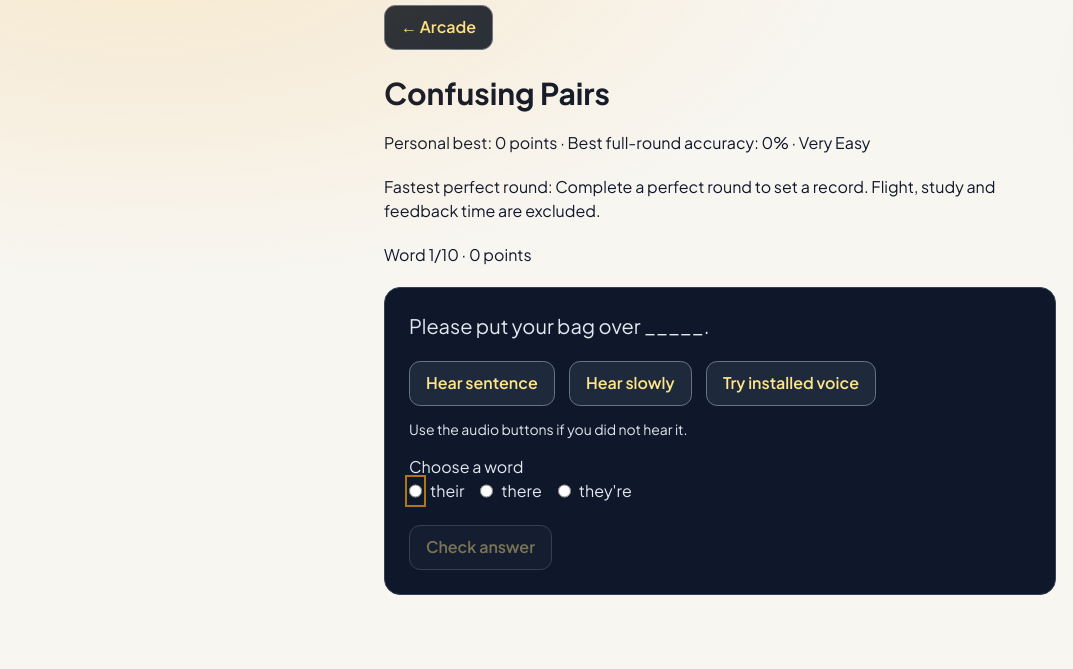
Test: choosing a word pair does not count as spelling mastery
The width and height of the screenshot is (1073, 669).
Click the radio button labelled "there".
click(487, 491)  # box x1=480 y1=479 x2=493 y2=503
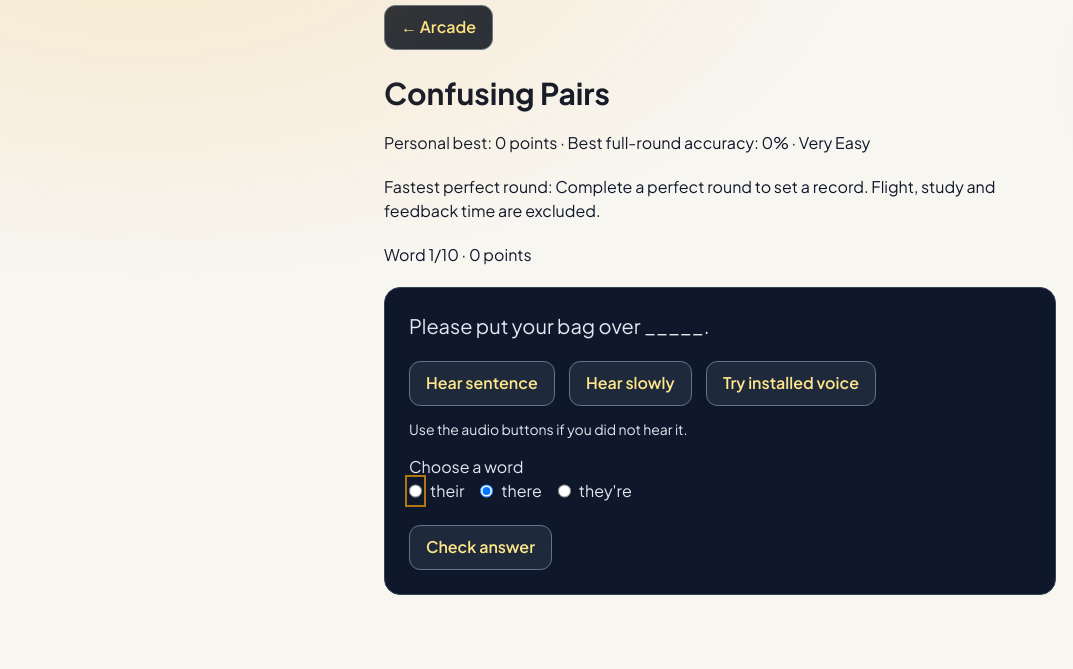
Submit the form, box x1=384 y1=287 x2=1056 y2=595
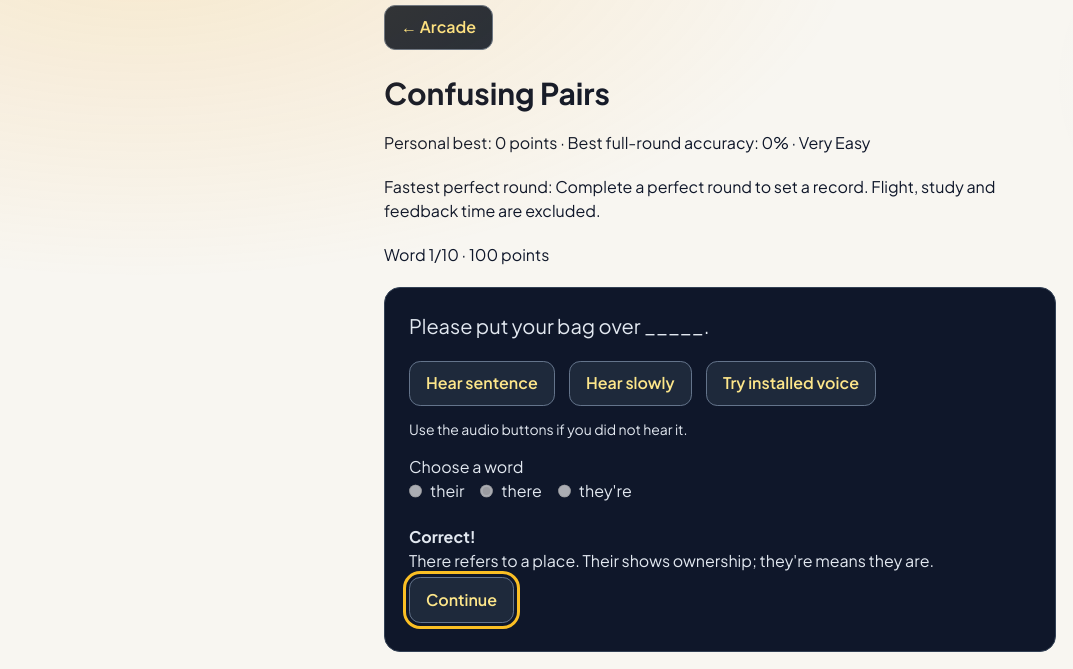
Result: the text "Correct!" is shown at x1=409 y1=526 x2=476 y2=547
Click the button "Continue".
click(462, 600)  # box x1=409 y1=577 x2=514 y2=623
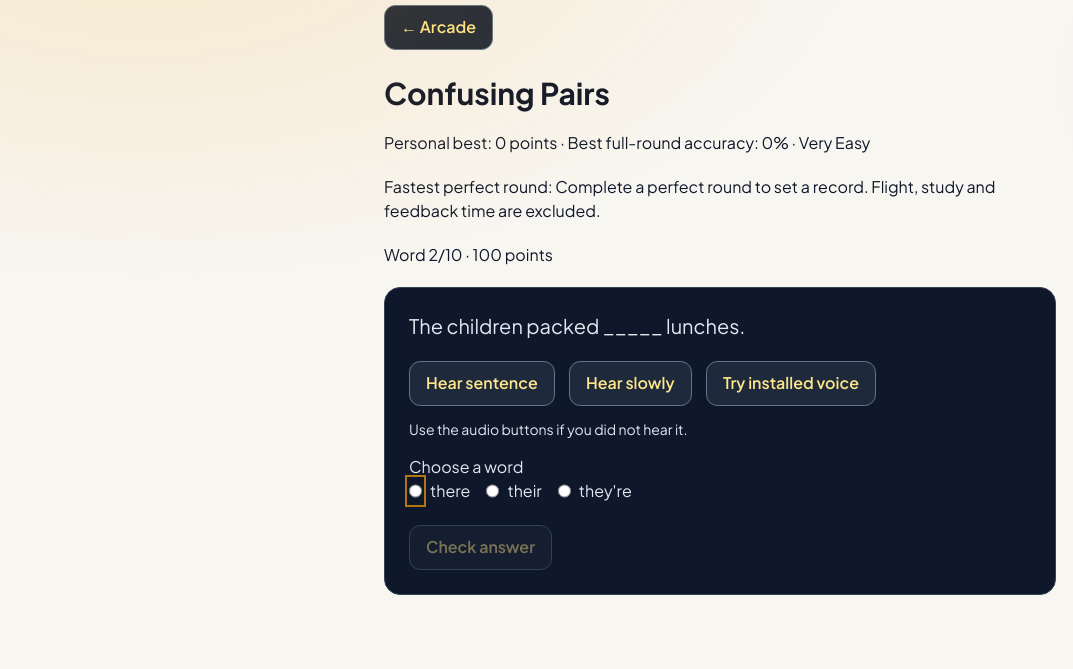
Result: the text "The children packed" is shown at x1=409 y1=313 x2=745 y2=338
